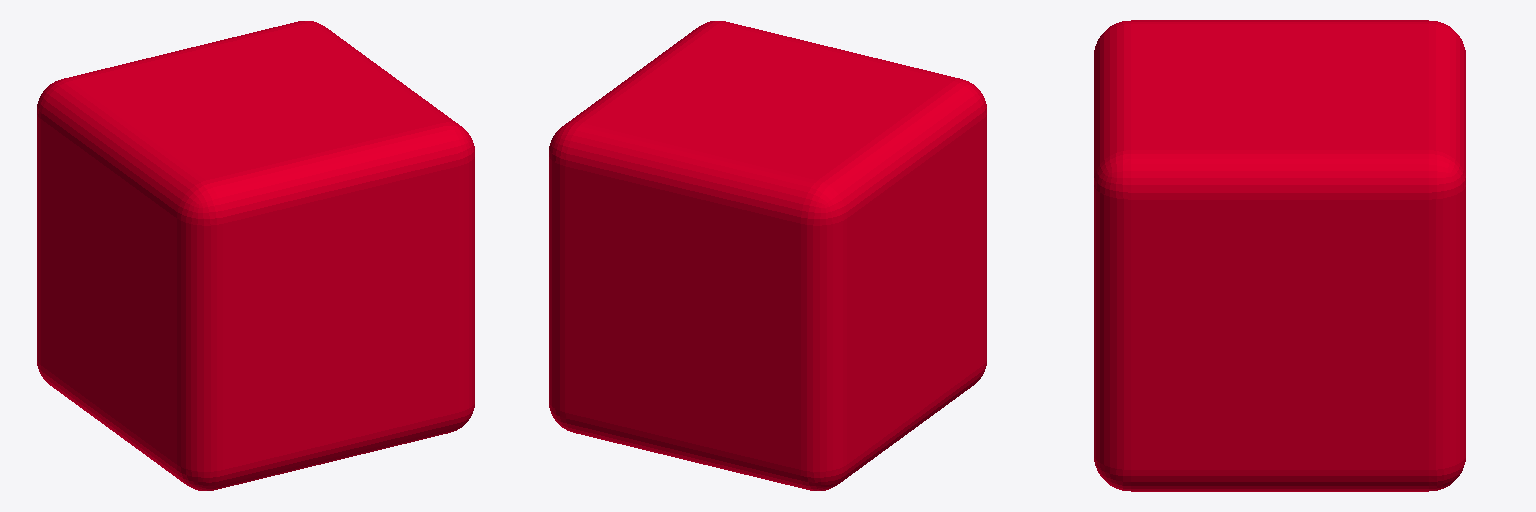
robot.urdf — cube.urdf:
<?xml version="1.0" ?>
<robot name="cube.urdf">
  <link name="cube">
    <contact>
    	<friction_anchor/>
      <lateral_friction value="1.0"/>
    </contact>
    <inertial>
      <origin rpy="0 0 0" xyz="0 0 0"/>
       <mass value="0.491"/>
       <inertia ixx="1" ixy="0" ixz="0" iyy="1" iyz="0" izz="1"/>
    </inertial>
    <visual>
      <origin rpy="0 0 0" xyz="0 0 0"/>
      <geometry>
				<mesh filename="cube_rounded.obj" scale="1.0 1.0 1.0"/>
      </geometry>
       <material name="red">
        <color rgba="0.9 0 0.2 1.0"/>
      </material>
    </visual>
    <collision>
      <origin rpy="0 0 0" xyz="0 0 0"/>
      <geometry>
				<mesh filename="cube_rounded.obj" scale="1.0 1.0 1.0"/>
      </geometry>
    </collision>
  </link>
</robot>

--- What the picture shows (computed from the rendered views, not written in the file) ---
The picture shows the robot from 3 angles, left to right: view 1: azimuth 30°, elevation 25°; view 2: azimuth 150°, elevation 25°; view 3: azimuth 270°, elevation 25°; orthographic projection.
Robot: cube.urdf — 1 links, 0 joints (none); root link cube; default pose: all joints at 0.
Links seen in each view (by area): view 1: cube; view 2: cube; view 3: cube.
Link boxes in pixels (left/top/right/bottom): cube: left=37, top=21, right=474, bottom=490; cube: left=549, top=21, right=986, bottom=490; cube: left=1094, top=20, right=1465, bottom=491.
Size in the robot's own frame: 0.08 by 0.08 by 0.08 metres.
Meshes: 1 distinct files referenced, 1 mesh visuals loaded (1 OBJ).